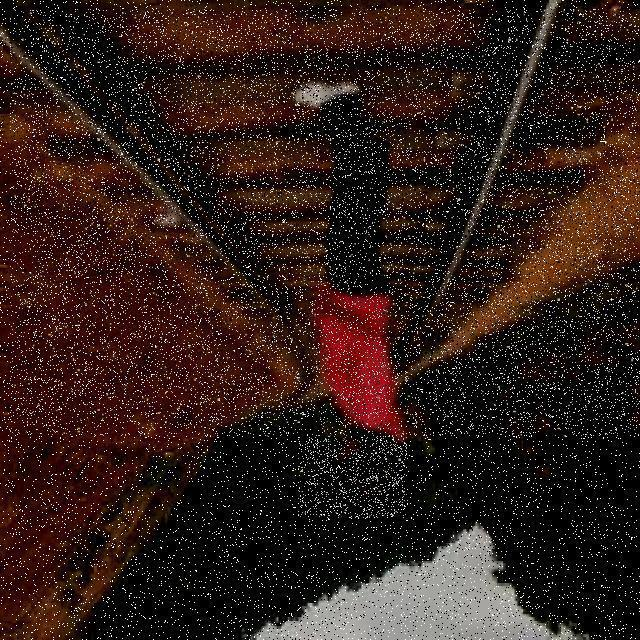rail: (11, 10, 640, 437)
